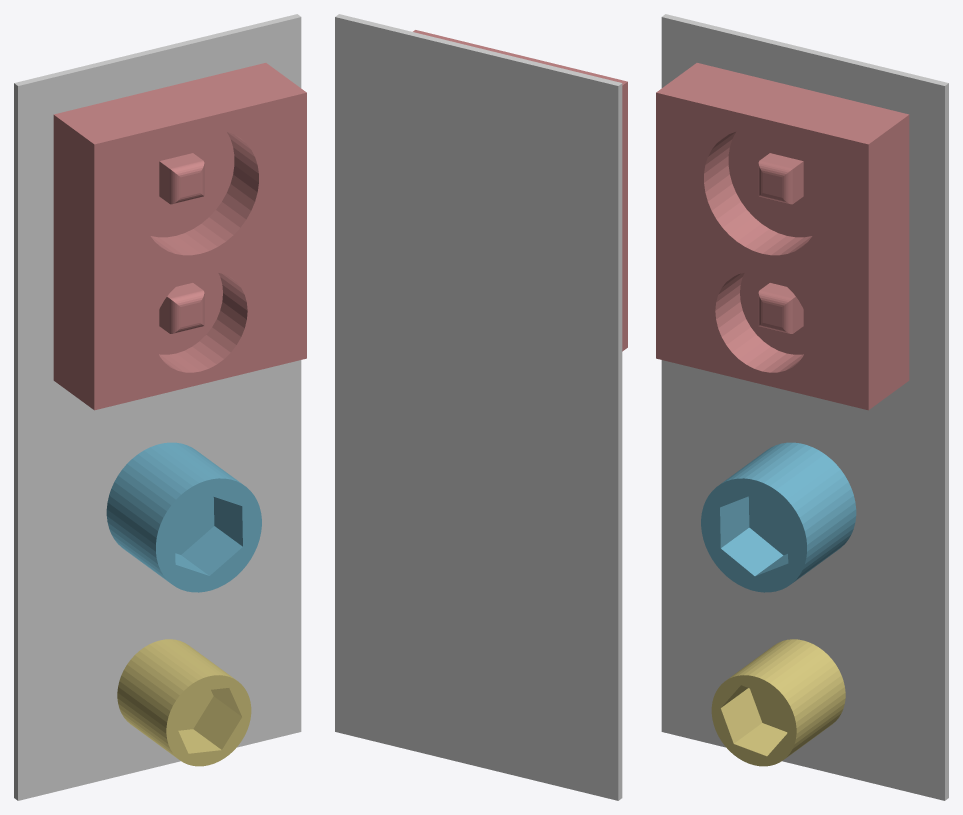
Rendered from pickup_layout.glb.
The picture shows the model from 3 angles, left to right: view 1: azimuth 30°, elevation 25°; view 2: azimuth 150°, elevation 25°; view 3: azimuth 330°, elevation 25°; orthographic projection.
Visible parts, largest first — view 1: world, 0.obj, 2.obj, 1.obj; view 2: world, 0.obj; view 3: world, 0.obj, 2.obj, 1.obj.
Part boxes in pixels (box(x1,y1,x2,y2)): world: box(14, 14, 301, 800); 0.obj: box(53, 63, 306, 410); 2.obj: box(106, 442, 261, 592); 1.obj: box(117, 639, 251, 766); world: box(335, 14, 622, 800); 0.obj: box(413, 30, 627, 351); world: box(661, 14, 948, 800); 0.obj: box(656, 63, 909, 410); 2.obj: box(701, 442, 856, 592); 1.obj: box(711, 639, 845, 766).
Bounding box in the file's own units: 8 × 19.29 × 2.6.
